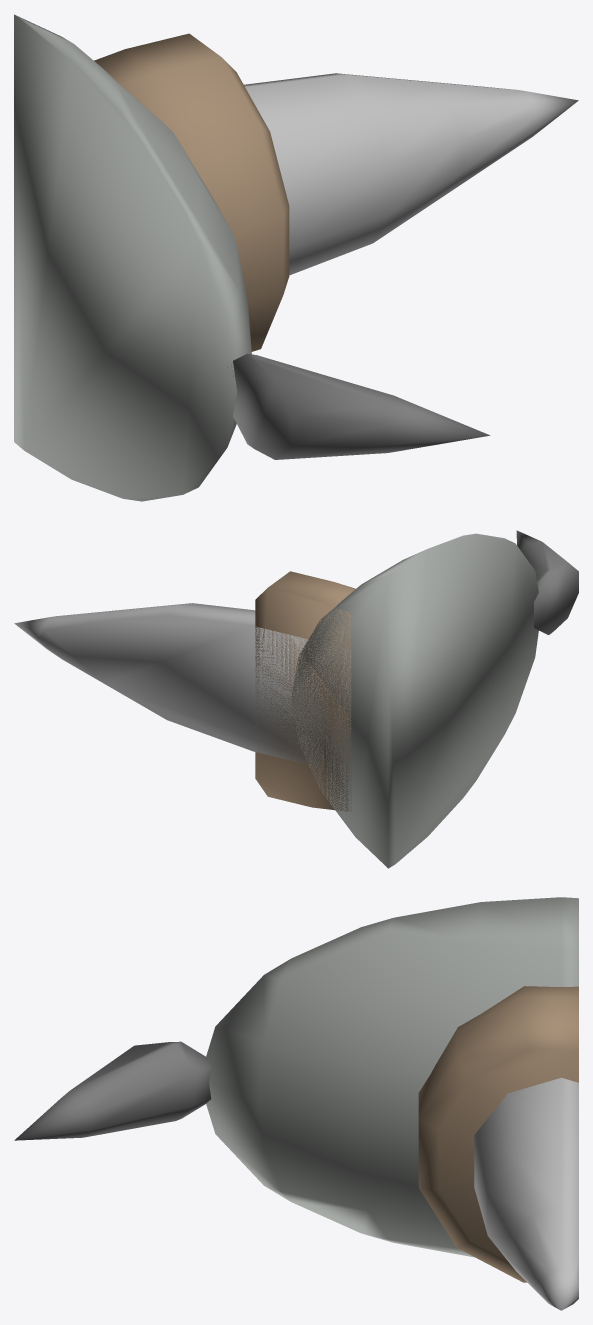
Rendered from newsha-119.glb.
3 renders of one model, top to bottom at view 1: azimuth 30°, elevation 25°; view 2: azimuth 150°, elevation 25°; view 3: azimuth 270°, elevation 25°, orthographic. The views are drawn at different scales.
Visible parts, largest first — view 1: newsha-119; view 2: newsha-119; view 3: newsha-119.
Part boxes in pixels (left/top/right/bottom): newsha-119: left=14, top=14, right=578, bottom=501; newsha-119: left=14, top=530, right=578, bottom=868; newsha-119: left=14, top=897, right=578, bottom=1310.
Bounding box in the file's own units: 1.29 × 0.9571 × 1.34.
